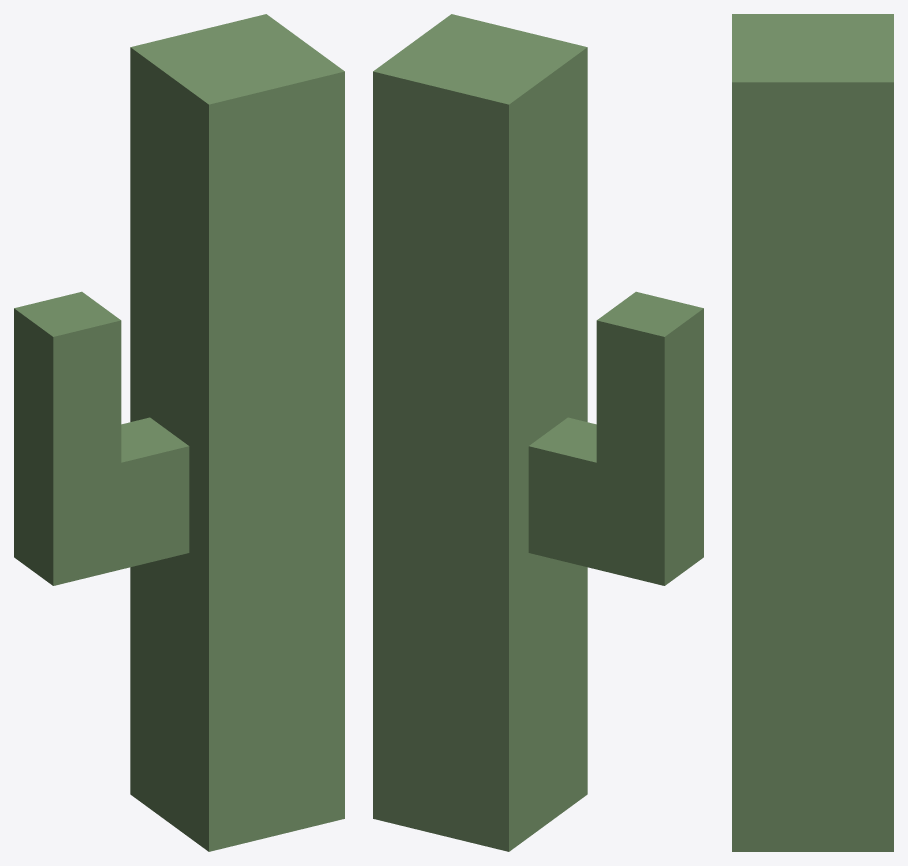
The model's file is saguaro_04.glb.
The picture shows the model from 3 angles, left to right: view 1: azimuth 30°, elevation 25°; view 2: azimuth 150°, elevation 25°; view 3: azimuth 270°, elevation 25°; orthographic projection. The views are drawn at different scales.
Visible parts, largest first — view 1: saguaro_04; view 2: saguaro_04; view 3: saguaro_04.
Boxes of the visible parts, x1,y1,x2,y2 form: saguaro_04: [14, 14, 344, 851]; saguaro_04: [373, 14, 703, 851]; saguaro_04: [732, 14, 893, 851].
Bounding box in the file's own units: 0.8 × 2.1 × 0.4.
